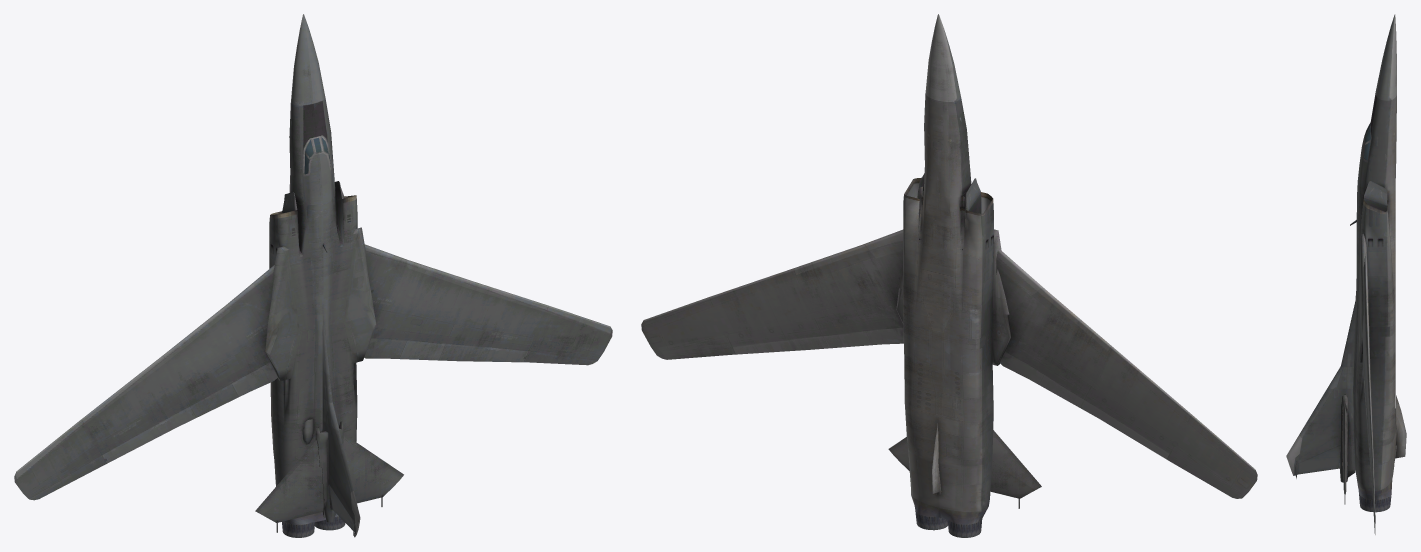
The model's file is ENM_Bomber_01_hidef.obj.
3 views of the same model, side by side, from view 1: azimuth 30°, elevation 25°; view 2: azimuth 150°, elevation 25°; view 3: azimuth 270°, elevation 25° (orthographic). The views are drawn at different scales.
Parts seen in each view (by area): view 1: LOD0; view 2: LOD0; view 3: LOD0.
Boxes of the visible parts, left/top/right/bottom form: LOD0: left=14, top=14, right=612, bottom=537; LOD0: left=641, top=14, right=1257, bottom=537; LOD0: left=1286, top=14, right=1406, bottom=534.
Bounding box in the file's own units: 57.94 × 46.8 × 10.55.
1 material, 1 textured.
